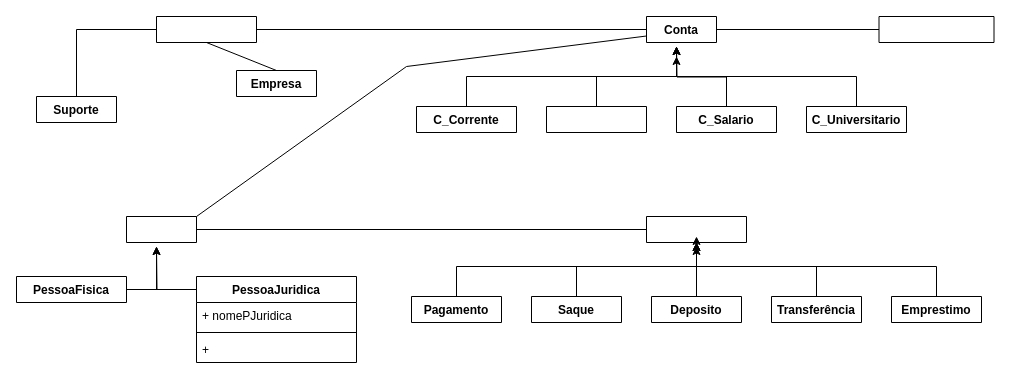
Image size: 1010x379. Some labels were removed from this diagram. The shapes that lost their labels are listed below. From the top down, each one's centre as x and y in pixels, then its label:
point (206, 29): Funcionario
point (936, 29): ImprimirCheque
point (596, 119): C_Poupança
point (161, 229): Cliente
point (696, 229): Transações
